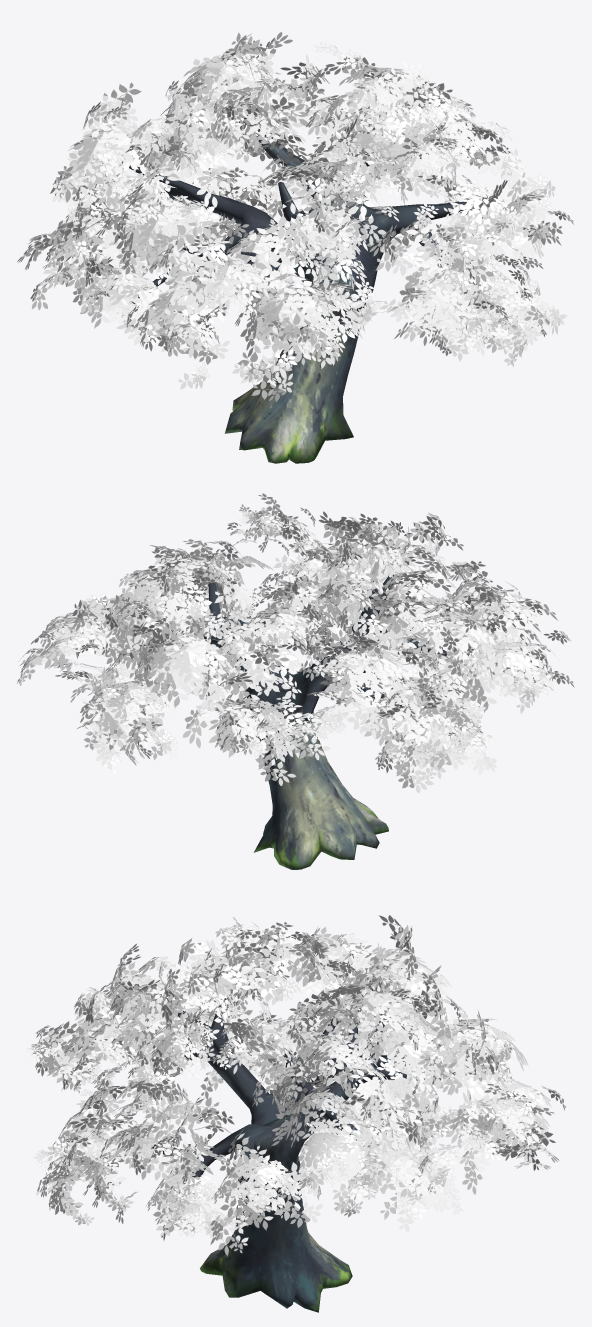
File: props.glb
3 renders of one model, top to bottom at view 1: azimuth 30°, elevation 25°; view 2: azimuth 150°, elevation 25°; view 3: azimuth 270°, elevation 25°, orthographic. The views are drawn at different scales.
Visible parts, largest first — view 1: Big Tree; view 2: Big Tree; view 3: Big Tree.
Boxes of the visible parts, x1,y1,x2,y2 form: Big Tree: (17, 32, 573, 463); Big Tree: (17, 493, 574, 869); Big Tree: (27, 915, 565, 1312).
Size of the model in its own units: 23.26 by 16.32 by 23.41.
Materials: 2 (2 with a texture image).
